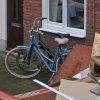bicycles: (4, 15, 68, 80)
